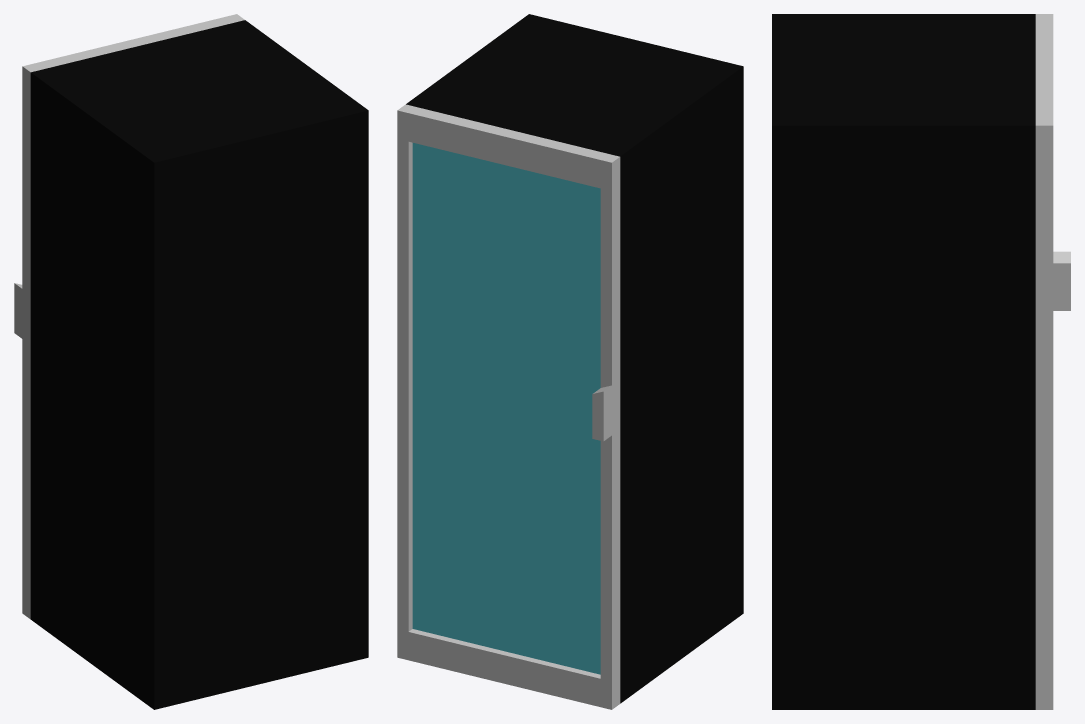
The model's file is ShelfFridge.fbx.
The picture shows the model from 3 angles, left to right: view 1: azimuth 30°, elevation 25°; view 2: azimuth 150°, elevation 25°; view 3: azimuth 270°, elevation 25°; orthographic projection. The views are drawn at different scales.
Parts seen in each view (by area): view 1: Box008; view 2: Box008; view 3: Box008.
Boxes of the visible parts, <box> form: Box008: <box>14,14,368,709</box>; Box008: <box>397,14,743,709</box>; Box008: <box>772,14,1070,709</box>.
Size of the model in its own units: 44.28 by 108 by 50.05.
